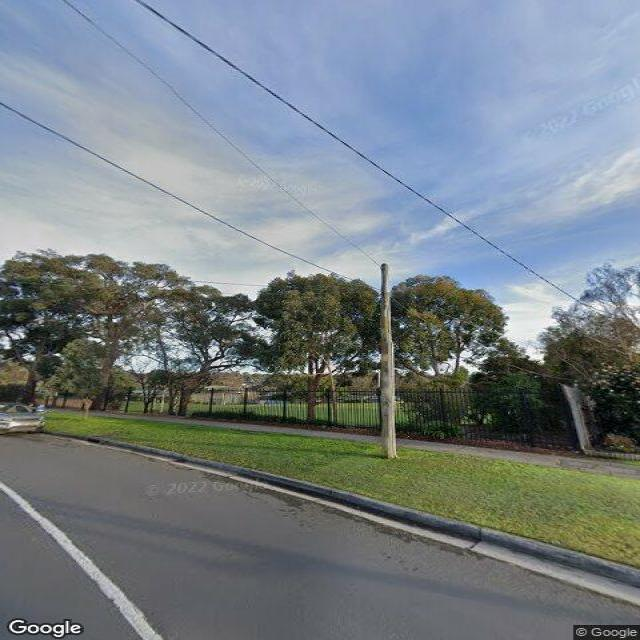timber-pole: (380, 263, 397, 459)
